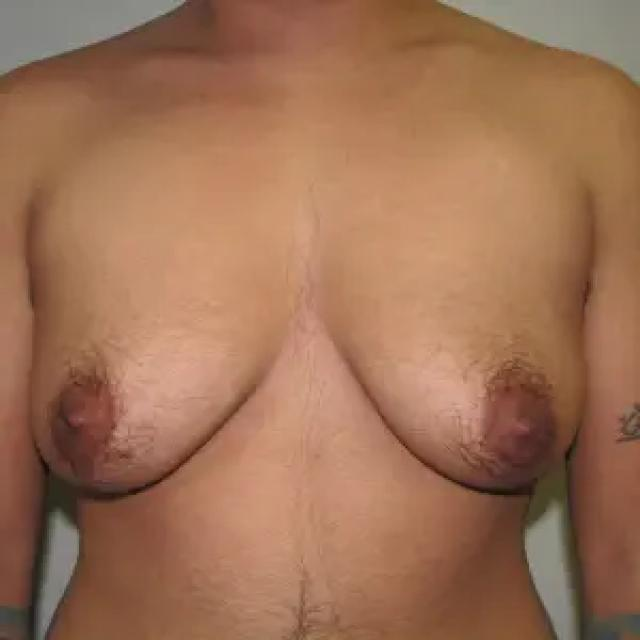Seno ileso: (306, 227, 596, 519), (21, 230, 300, 526)
